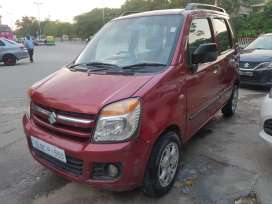license_plate: (28, 130, 68, 168)
